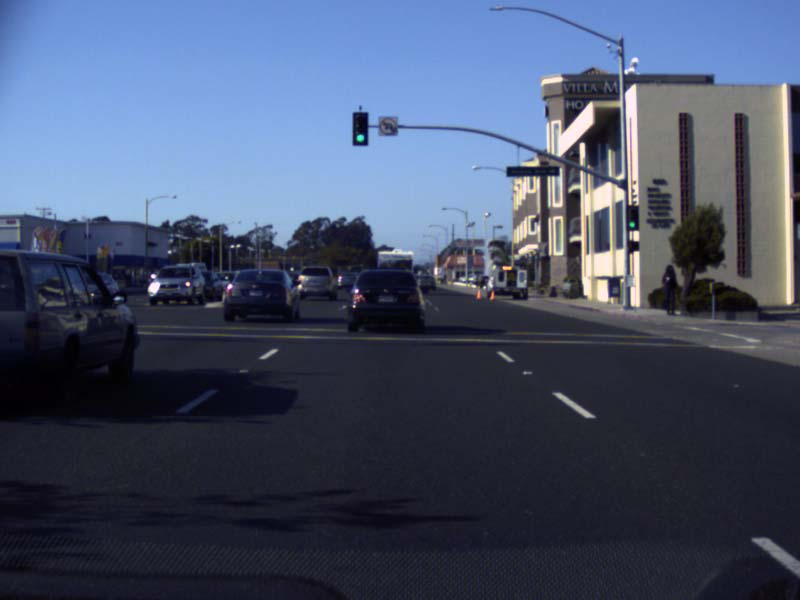Green: (351, 111, 367, 145), (626, 205, 638, 229)
